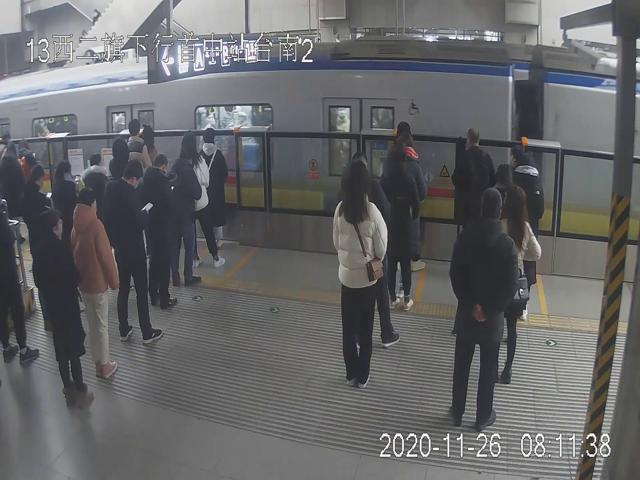person: (449, 187, 519, 426), (32, 209, 96, 409), (331, 165, 387, 384), (70, 189, 120, 381), (116, 162, 165, 344), (381, 141, 418, 311), (144, 152, 181, 311), (201, 128, 228, 248)
